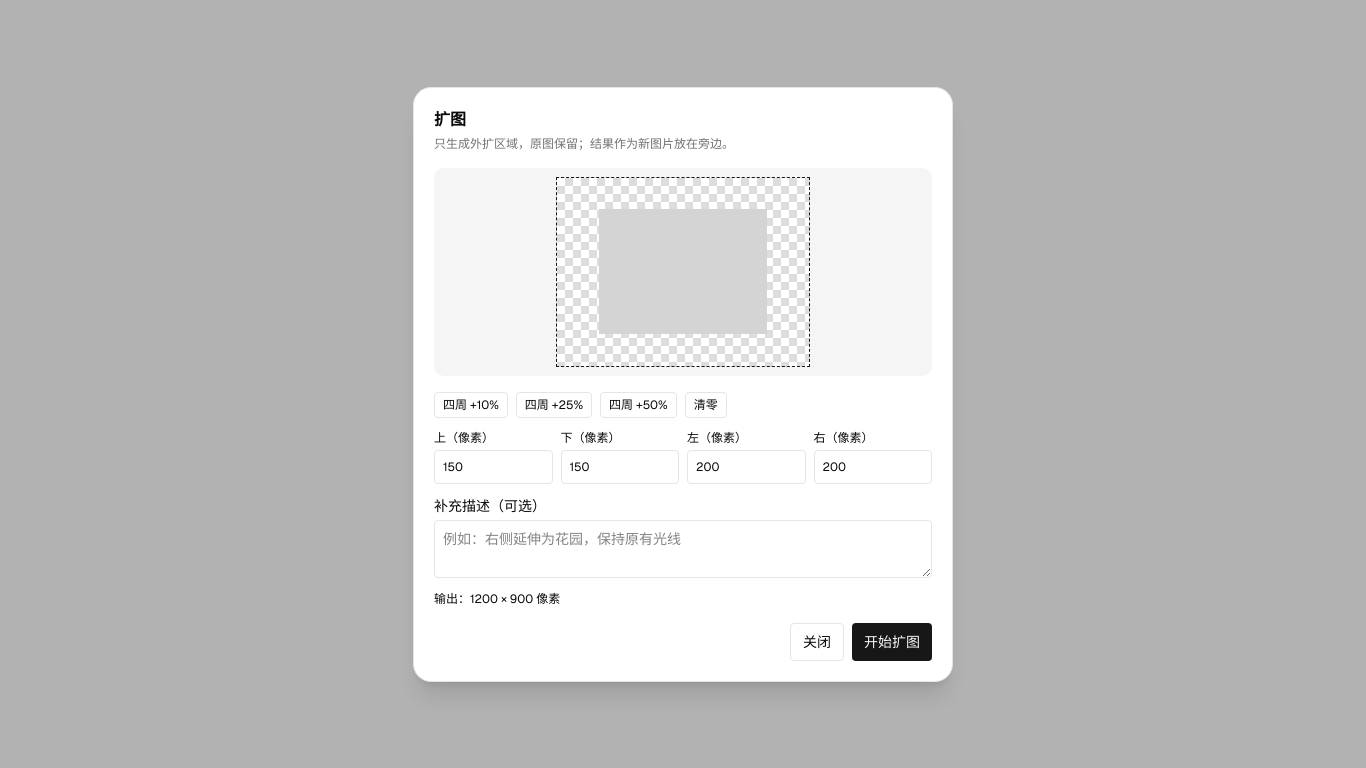
Test: previews margins and rejects an empty expansion
Expected: the text "输出：1200 × 900 像素" is shown, 434,590 -> 560,606
Click the button "清零". click: (706, 404)
box: 685,392 -> 727,418
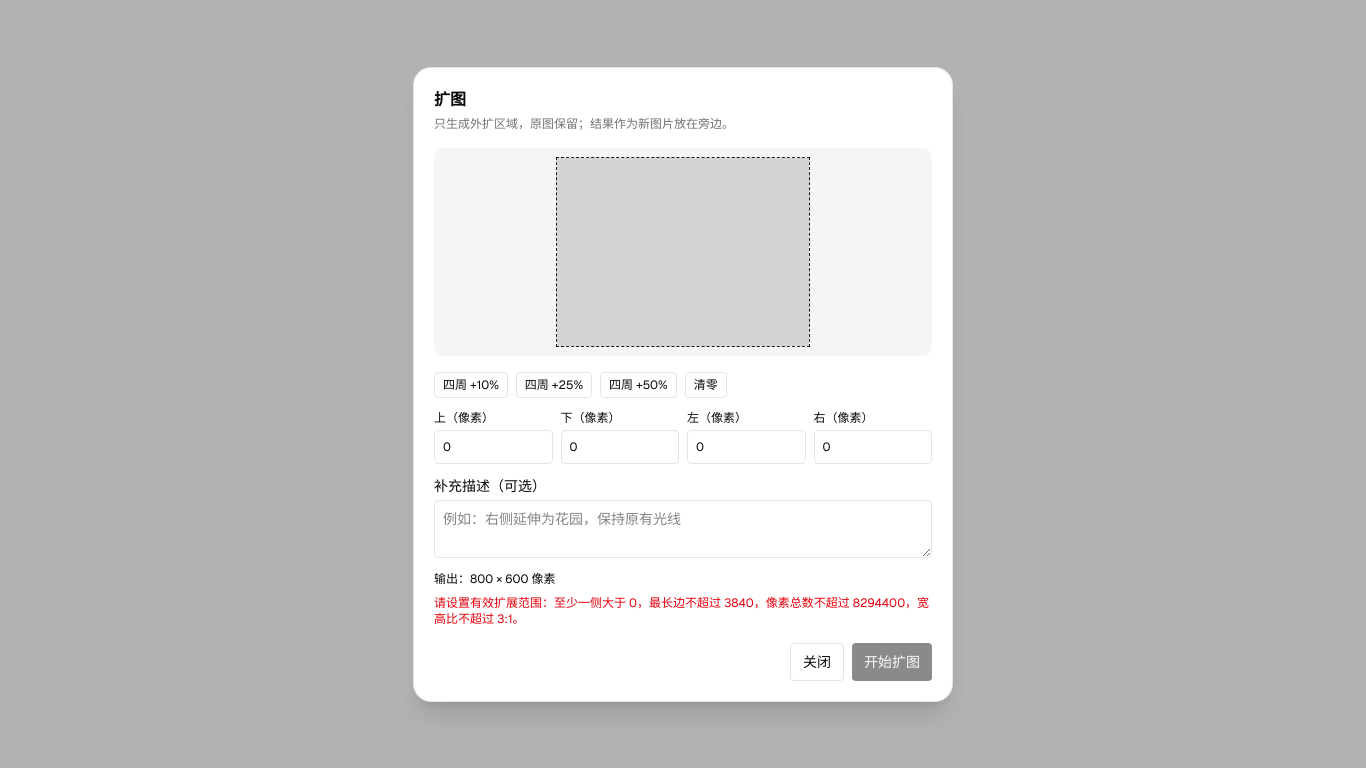
Result: the button "开始扩图" is disabled at 852,642 -> 932,680
Replace the text in the number field named "右扩展像素" with "200". click: (873, 446)
box: 814,430 -> 932,464
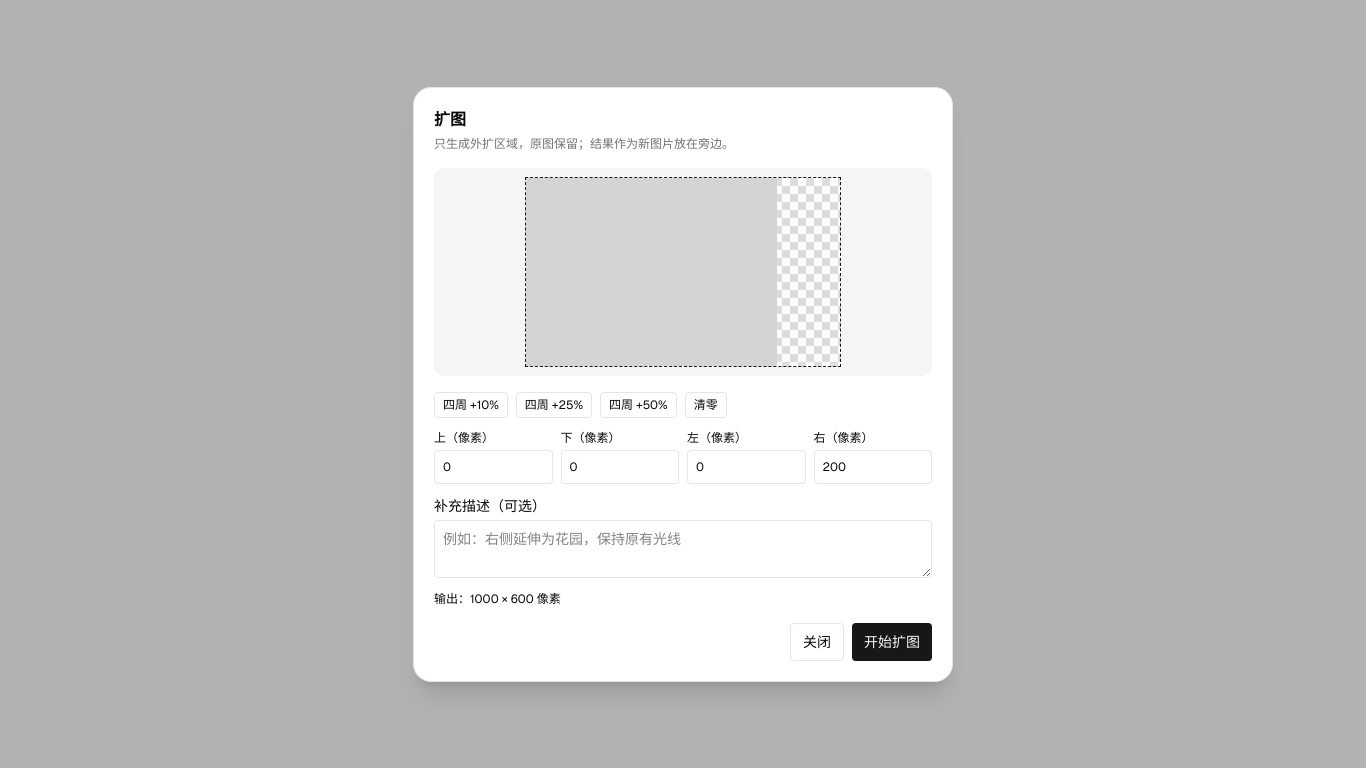
Result: the text "输出：1000 × 600 像素" is shown at 434,590 -> 561,606
